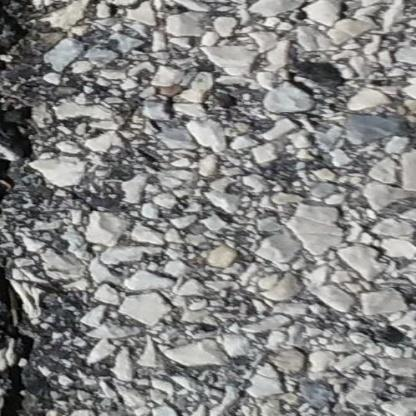Cracks: (0, 0, 45, 416)
